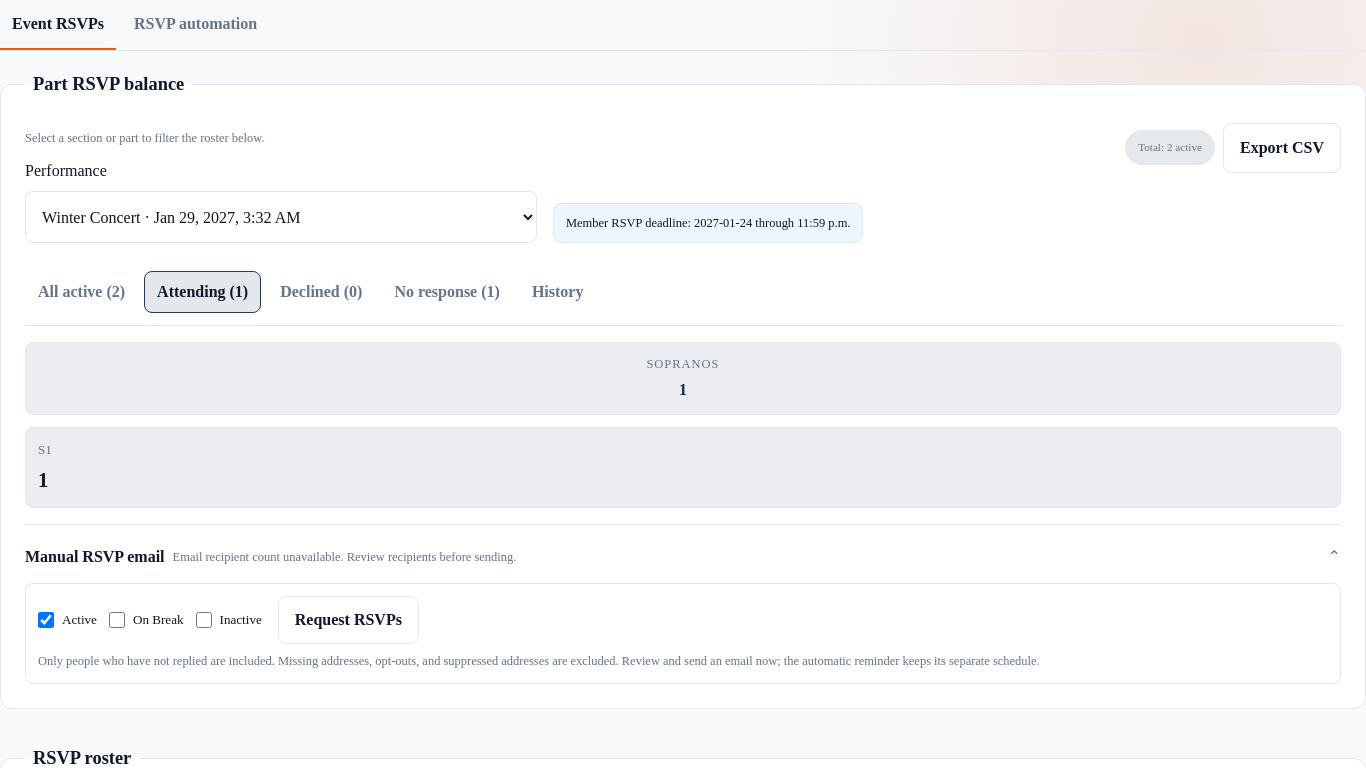
Test case: RsvpManagerPage profile editor (issue #137) › defaults to attending and lets administrators switch RSVP filters
Click the button "All active (2)".
click(82, 292)  # box [25,271,138,313]
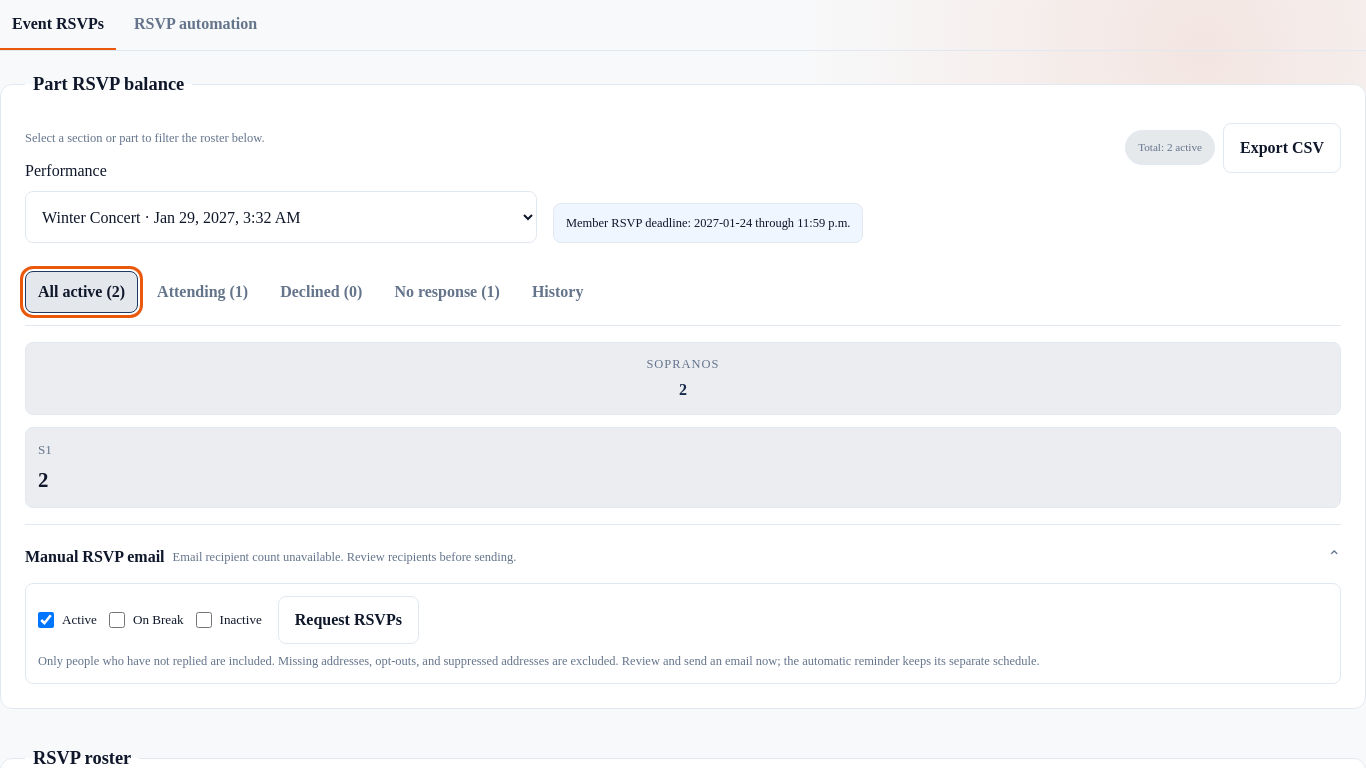
Click the button "No response (1)".
click(447, 292)  # box [381,271,513,313]
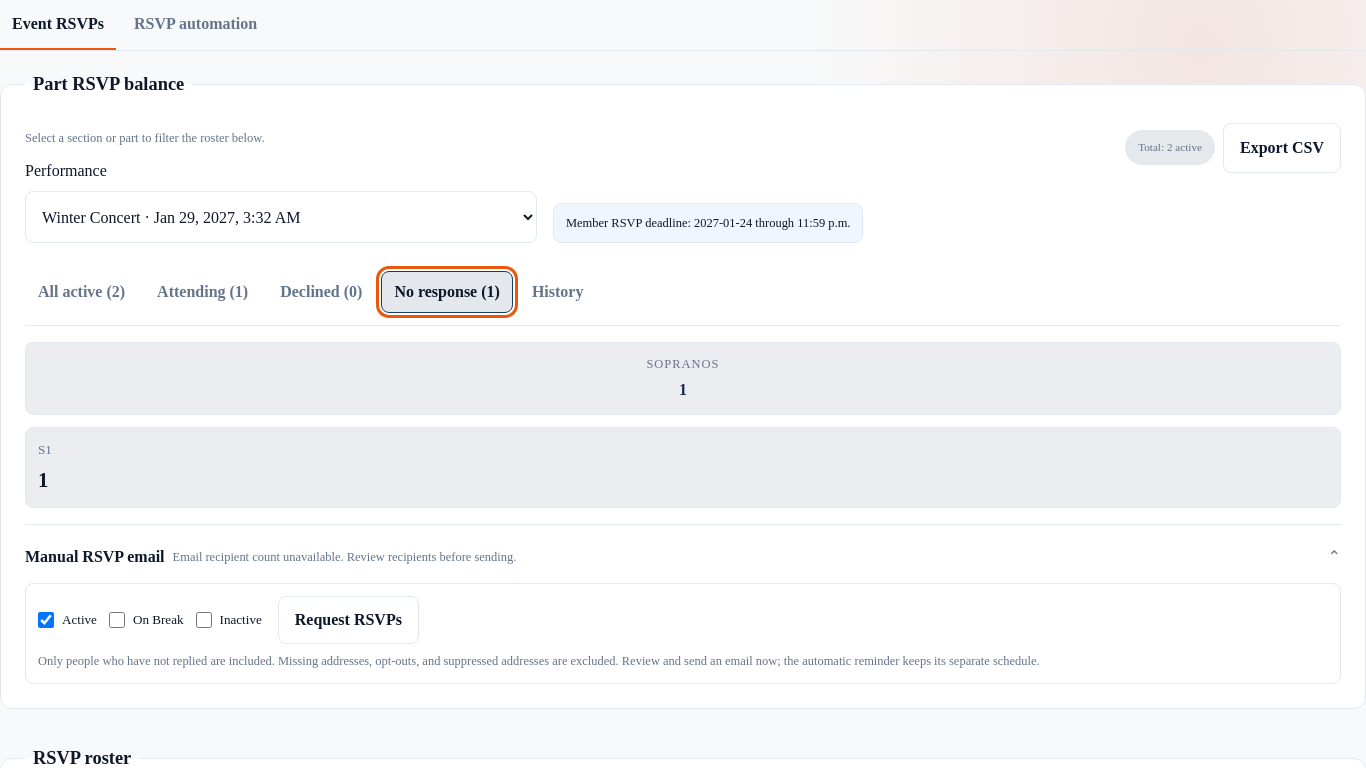
Expected: the button "No response (1)" is pressed, [381,271,513,313]
Click the button "Attending (1)".
click(203, 292)  # box [144,271,261,313]
(page scrolled)
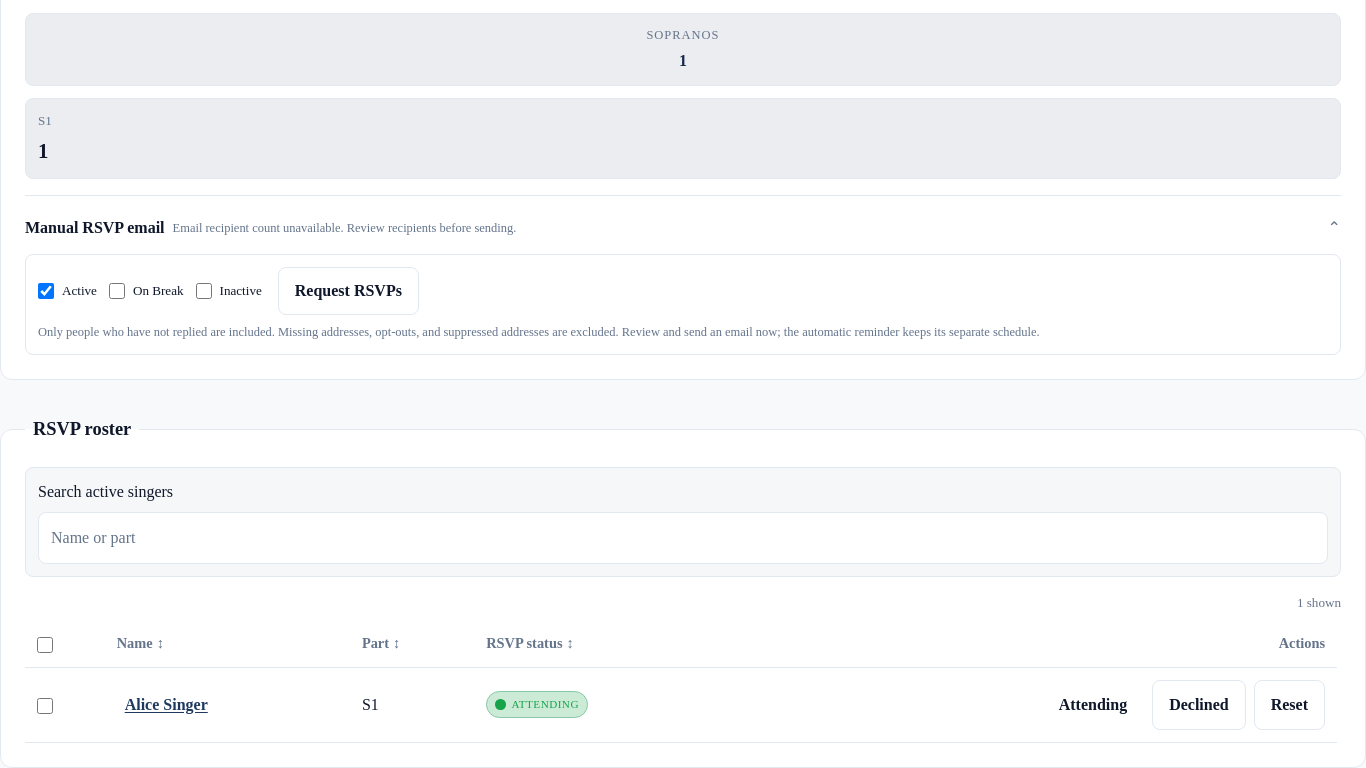
Expected: the button with aria-label "Open profile for Alice Singer" is shown, [117,684,216,724]
